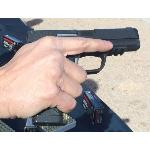Pistol: (25, 26, 141, 126)
